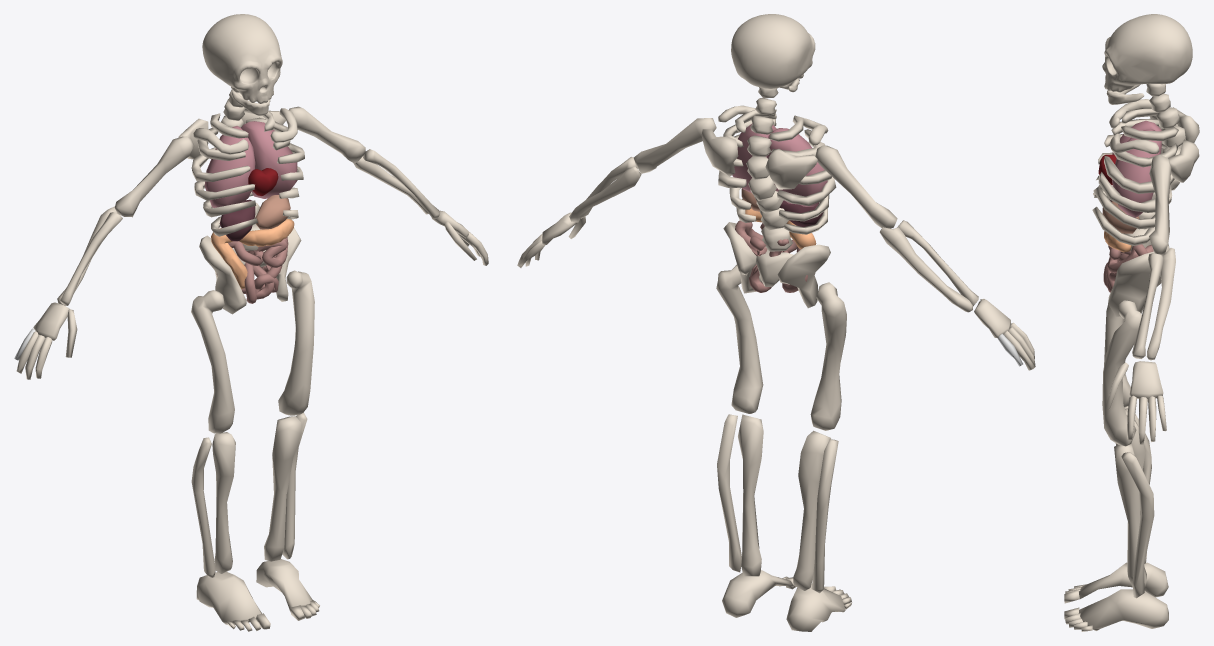
File: skeleton5.glb
The picture shows the model from 3 angles, left to right: view 1: azimuth 30°, elevation 25°; view 2: azimuth 150°, elevation 25°; view 3: azimuth 270°, elevation 25°; orthographic projection. The views are drawn at different scales.
Parts seen in each view (by area): view 1: tete.002, femur_R, femur_L, Tibia_R, Tibia_L, pied_L.001, BezierCurve, hanches, Sphere.003, Sphere.002, bras_L.001, Cylinder (+11 smaller); view 2: tete.002, femur_L, femur_R, Tibia_L, Tibia_R, hanches, truc_R, bras_L.001, truc_L, pied_L.001, pied_R.001, avant bras 1_L (+10 smaller); view 3: tete.002, femur_R, pied_R.001, truc_R, Tibia_R, hanches, bras_R.001, pied_L.001, Sphere.003, avant bras 1_R, avant bras 2_R, main_R (+32 smaller).
Boxes of the visible parts, x1,y1,x2,y2 form: tete.002: [202, 14, 282, 103]; femur_R: [278, 270, 314, 415]; femur_L: [191, 290, 234, 434]; Tibia_R: [264, 416, 301, 561]; Tibia_L: [212, 432, 235, 573]; pied_L.001: [196, 572, 261, 624]; BezierCurve: [216, 237, 288, 303]; hanches: [199, 228, 301, 314]; Sphere.003: [241, 121, 297, 198]; Sphere.002: [204, 126, 255, 207]; bras_L.001: [114, 136, 194, 217]; Cylinder: [211, 218, 294, 288]; tete.002: [731, 14, 815, 88]; femur_L: [810, 282, 846, 430]; femur_R: [716, 264, 763, 413]; Tibia_L: [793, 430, 830, 590]; Tibia_R: [738, 414, 763, 576]; hanches: [723, 222, 830, 308]; truc_R: [717, 414, 741, 572]; bras_L.001: [815, 145, 897, 228]; truc_L: [811, 439, 838, 593]; pied_L.001: [786, 584, 845, 631]; pied_R.001: [722, 570, 793, 617]; avant bras 1_L: [879, 227, 972, 312]; tete.002: [1102, 14, 1192, 92]; femur_R: [1102, 300, 1141, 446]; pied_R.001: [1078, 589, 1168, 630]; truc_R: [1121, 452, 1154, 598]; Tibia_R: [1114, 443, 1146, 589]; hanches: [1108, 227, 1169, 316]; bras_R.001: [1149, 154, 1171, 255]; pied_L.001: [1079, 562, 1168, 598]; Sphere.003: [1112, 128, 1161, 217]; avant bras 1_R: [1146, 248, 1175, 360]; avant bras 2_R: [1132, 253, 1163, 358]; main_R: [1129, 361, 1163, 398].
Bounding box in the file's own units: 8.79 × 10.12 × 2.09.
